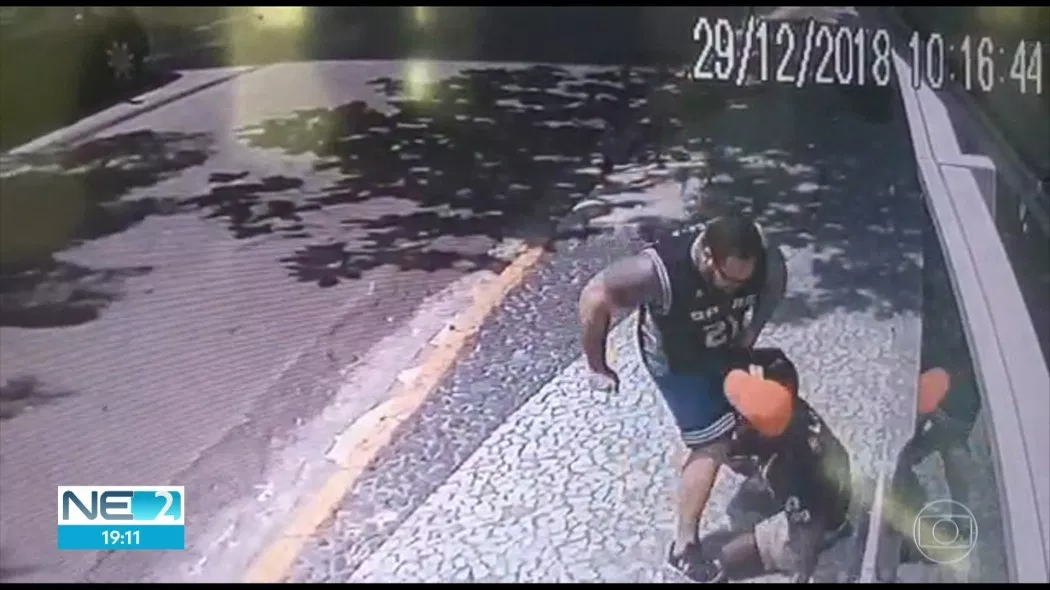Humano: (647, 190, 769, 579), (715, 361, 863, 590)
